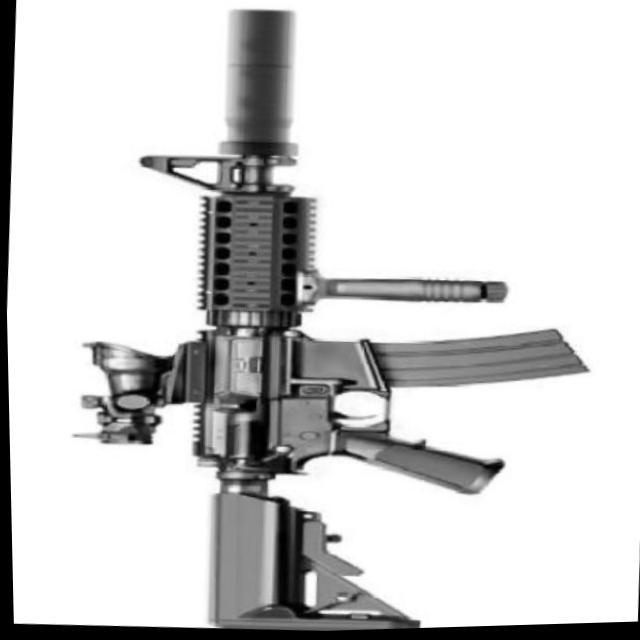weapon: (52, 0, 611, 639)
